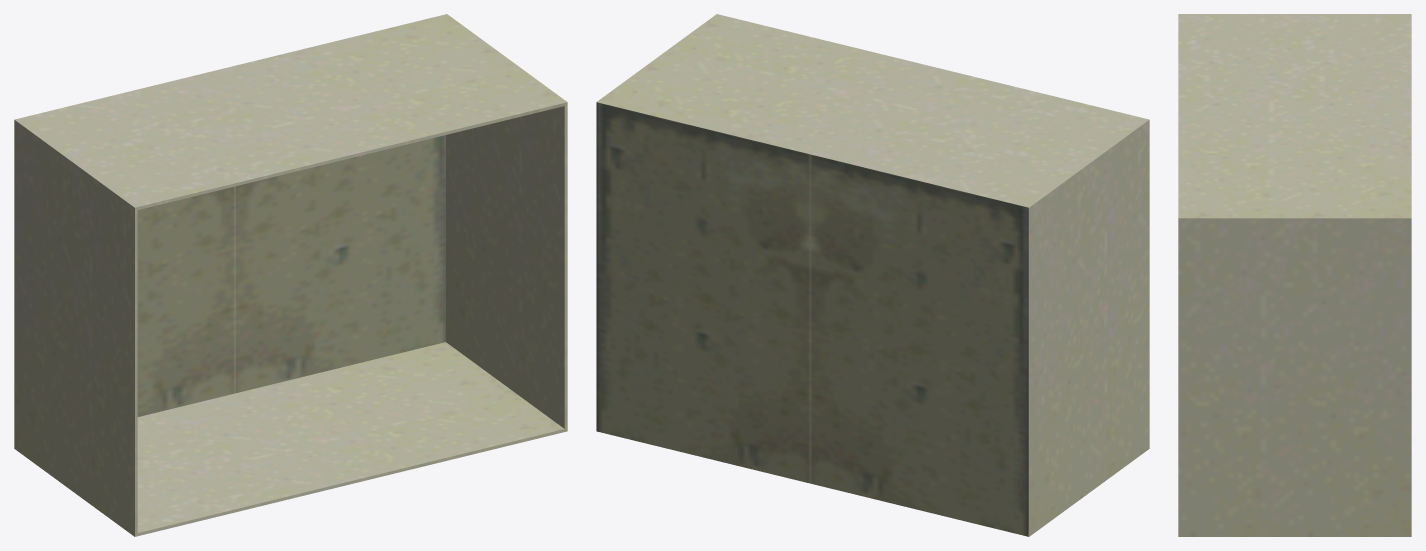
File: file_cabinet_larger_open.fbx
3 renders of one model, left to right at view 1: azimuth 30°, elevation 25°; view 2: azimuth 150°, elevation 25°; view 3: azimuth 270°, elevation 25°, orthographic. The views are drawn at different scales.
Visible parts, largest first — view 1: file_cabinet_larger_open; view 2: file_cabinet_larger_open; view 3: file_cabinet_larger_open.
Part boxes in pixels (x1=…): file_cabinet_larger_open: x1=14, y1=14, x2=567, y2=536; file_cabinet_larger_open: x1=596, y1=14, x2=1149, y2=536; file_cabinet_larger_open: x1=1178, y1=14, x2=1411, y2=536.
Size of the model in its own units: 145 by 105 by 69.94.
1 material, 1 textured.
